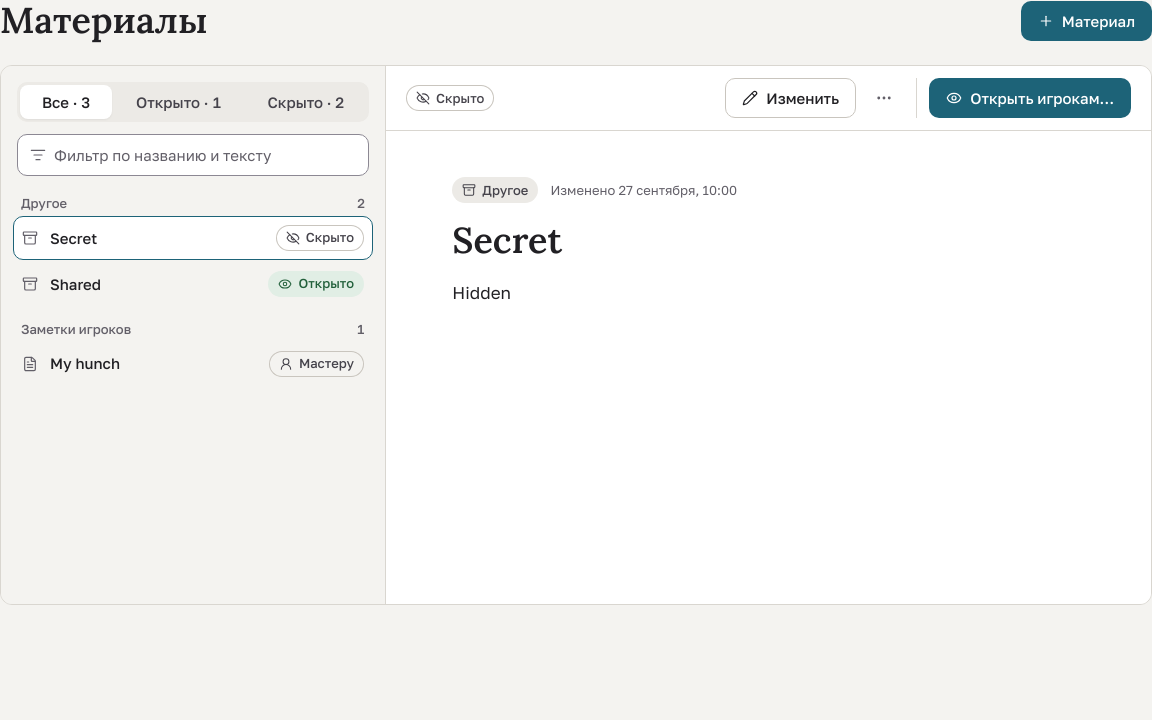
Test: ElementsPage › reveals a hidden material only after a preview of what players get
This screenshot has width=1152, height=720.
Click the button "Открыть игрокам…" at (1030, 98), box [929,78,1131,118]
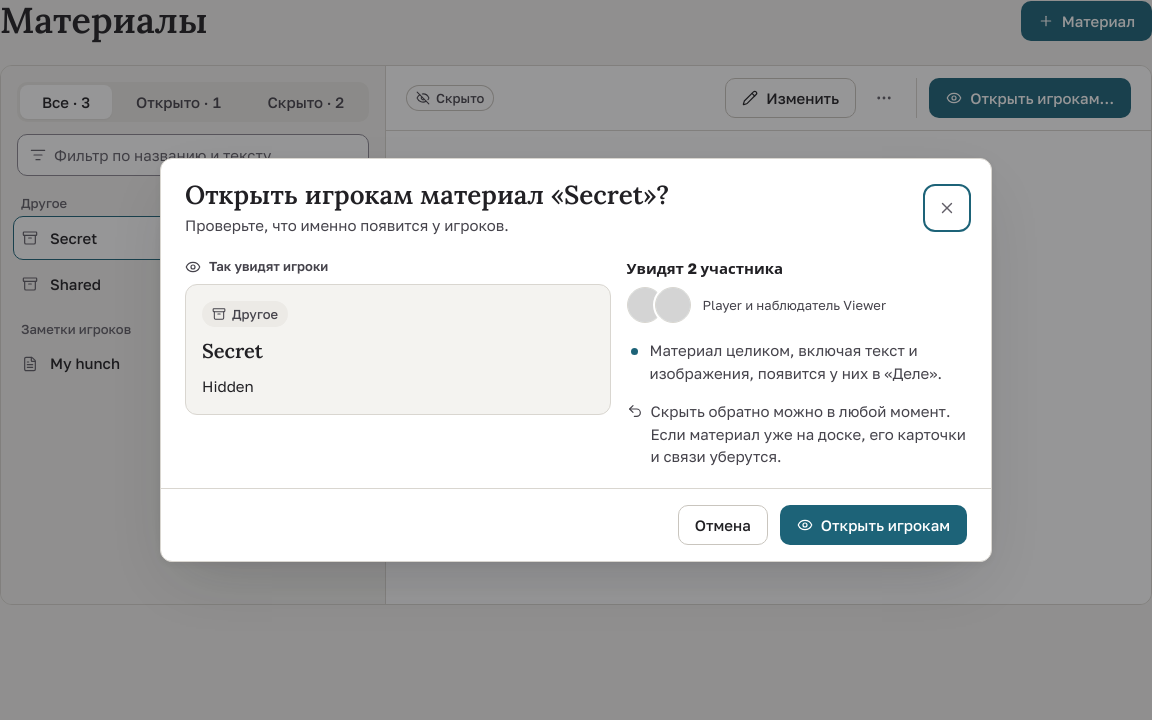
Check: the element "Так увидят игроки" shows "Hidden", box [202,377,254,395]
Check: the text "Увидят 2 участника" is shown, box [626,259,783,277]
Check: the text "Player и наблюдатель Viewer" is shown, box [702,296,886,315]
Click the button "Открыть игрокам" at (873, 525), box [780,505,967,545]
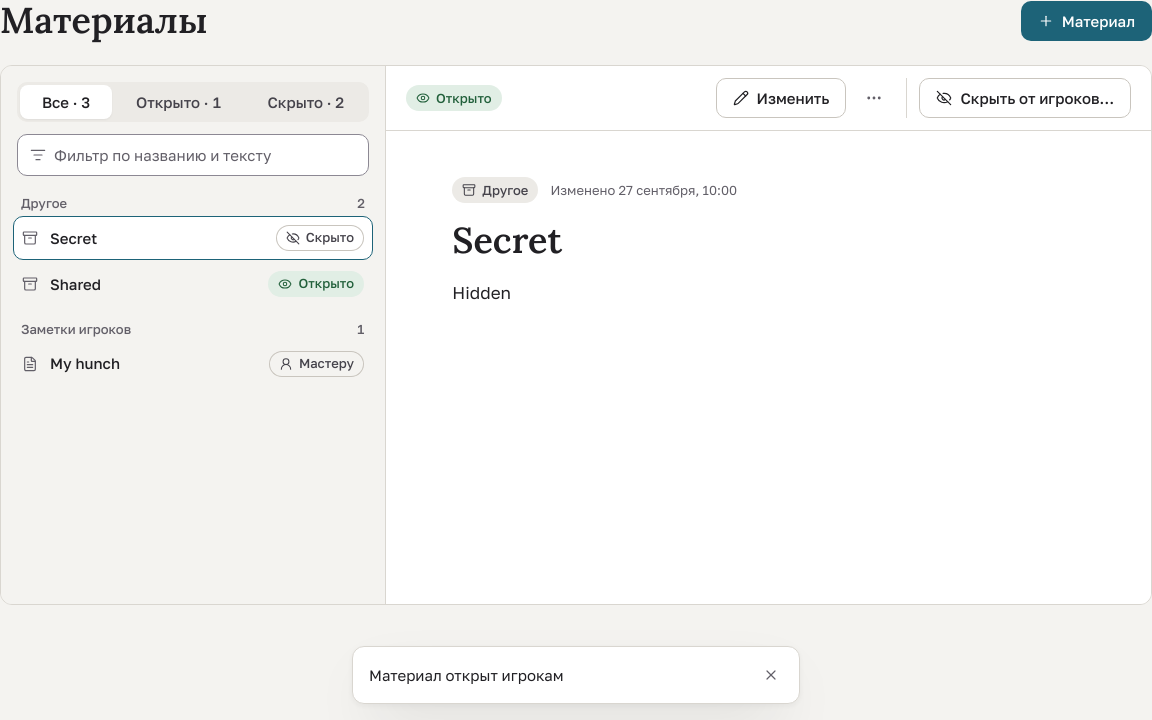
Check: the message reads "Материал открыт игрокам", box [369,666,564,684]
Check: the button "Скрыть от игроков…" is shown, box [919,78,1131,118]
